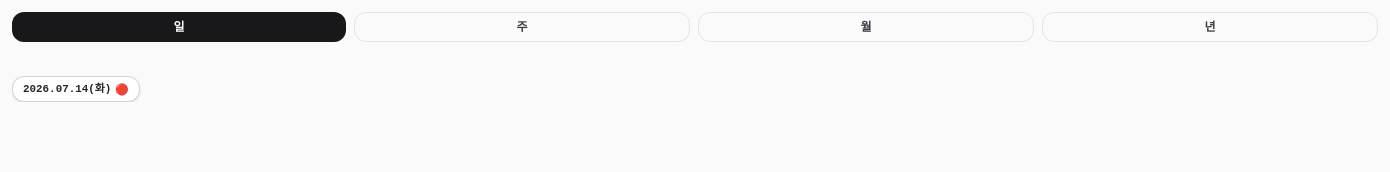
Test: PriceChart › buckets a trade arrow by its aggregated (weekly) candle, not its exact daily date
The image size is (1390, 172).
Click the button "주" at (522, 27), box top-left (354, 12), bottom-right (690, 42)
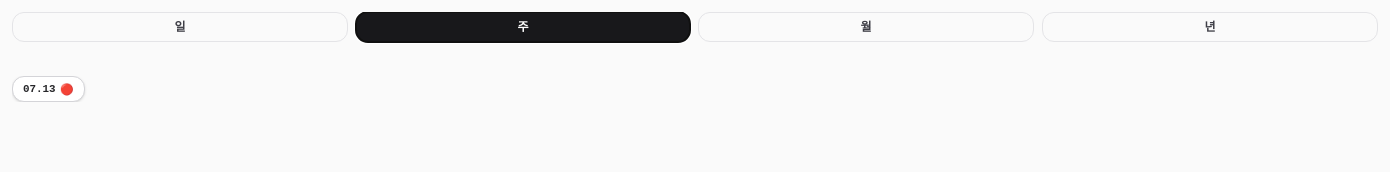
Expected: the button named "매수 2026-07-13" is shown, top-left (12, 76), bottom-right (85, 102)
